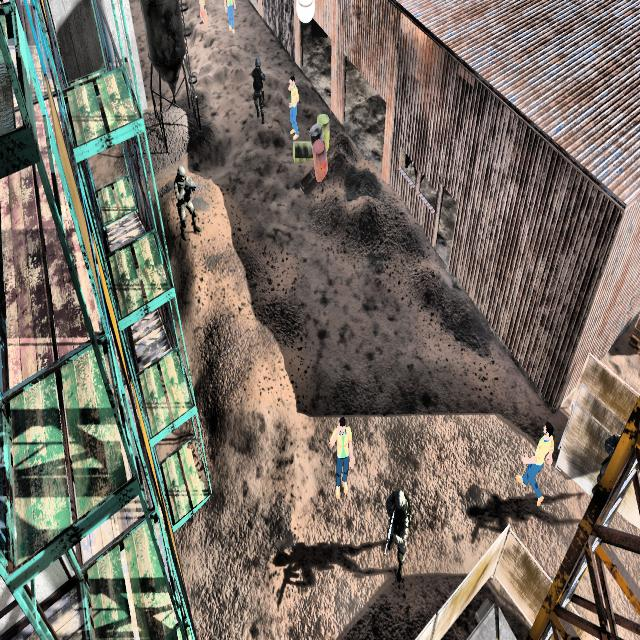bad: (380, 466, 412, 583), (167, 163, 204, 242), (249, 48, 269, 125), (310, 200, 311, 220)
good: (516, 401, 556, 515), (331, 405, 356, 512), (285, 66, 306, 145), (220, 0, 240, 39)
